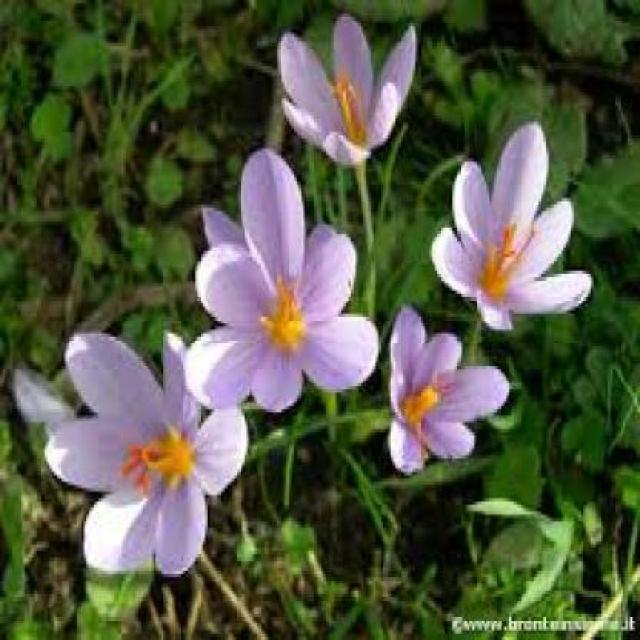saffron open: (186, 149, 379, 411), (46, 334, 244, 574), (433, 124, 590, 327), (279, 16, 416, 161), (389, 310, 507, 471)
